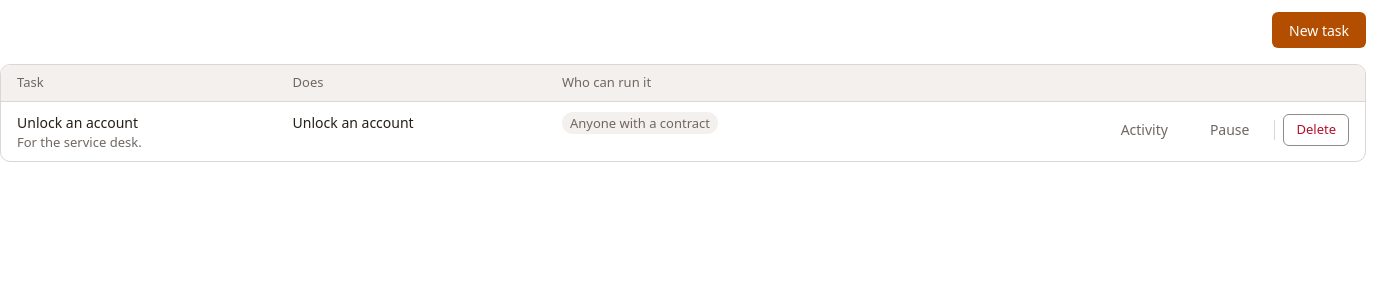
Test: DelegatedTasksTab › shows what a task has done, refusals included
The image size is (1378, 299).
Click the button "Activity". click: click(1144, 130)
box: [1104,112,1185,148]
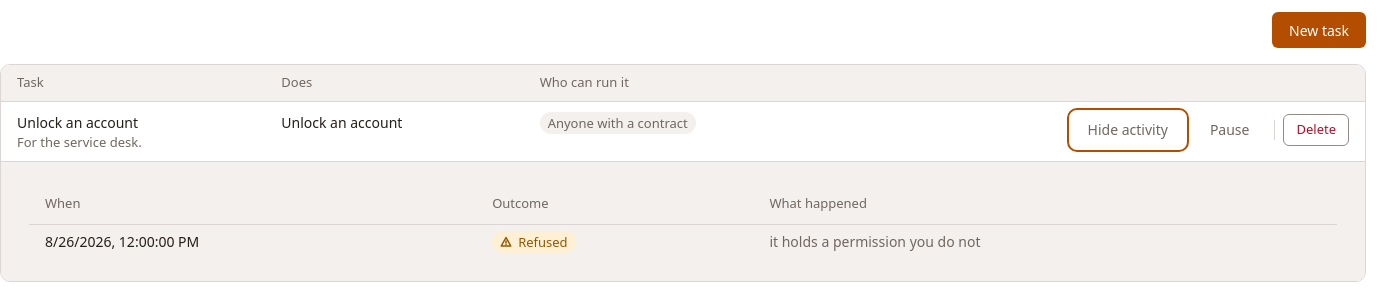
expect the text "Refused" is shown: met, box [492,231,576,253]
expect the text "it holds a permission you do not" is shown: met, box [753,224,1337,259]
